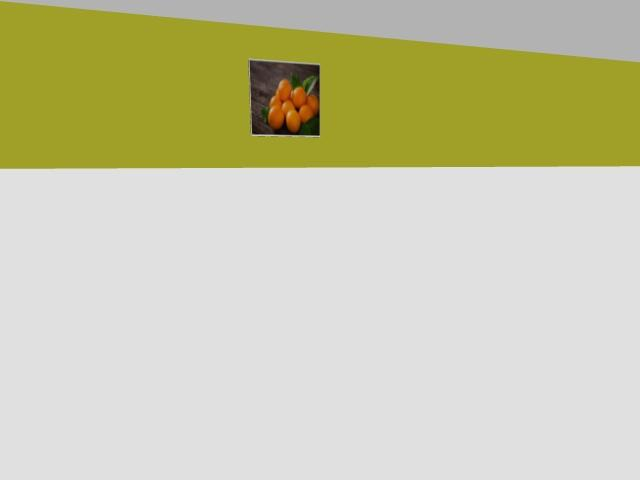orange: (268, 105, 284, 129), (286, 109, 300, 133), (277, 80, 292, 102), (292, 86, 306, 108), (299, 104, 313, 122), (306, 94, 318, 114), (282, 100, 294, 114), (275, 88, 287, 101), (269, 95, 281, 106), (289, 90, 293, 100)
